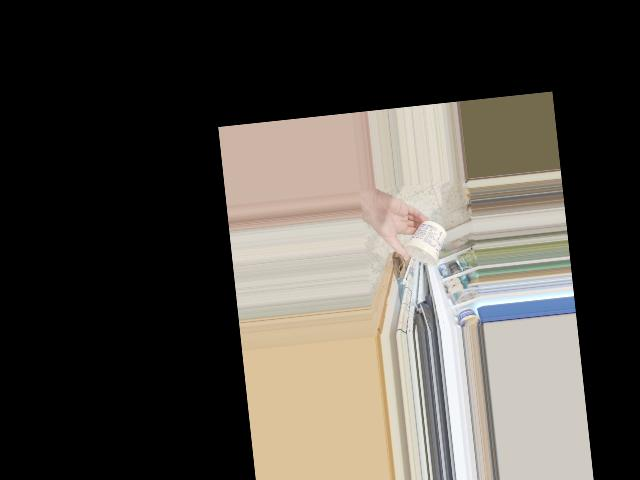cotage: (397, 220, 443, 263)
